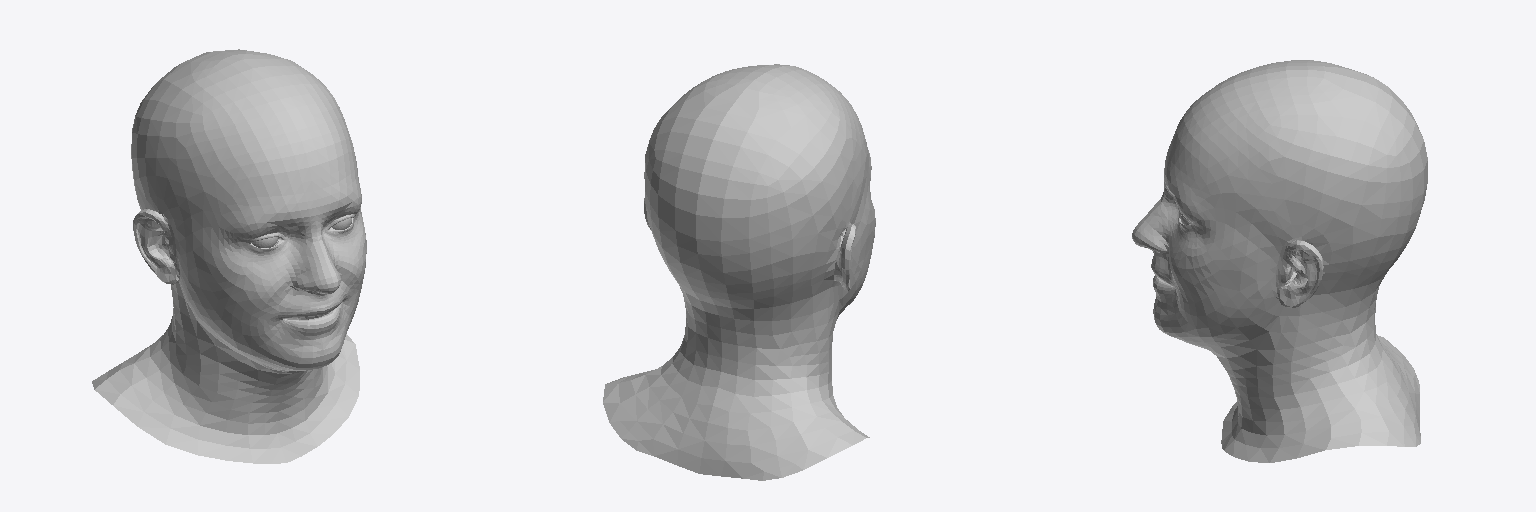
The model's file is 00016_w_HIFI3D_UV_simply_handle_eyeballs.obj.
The picture shows the model from 3 angles: view 1: azimuth 30°, elevation 25°; view 2: azimuth 150°, elevation 25°; view 3: azimuth 270°, elevation 25°; orthographic projection.
Bounding box in the file's own units: 0.2229 × 0.321 × 0.2313.